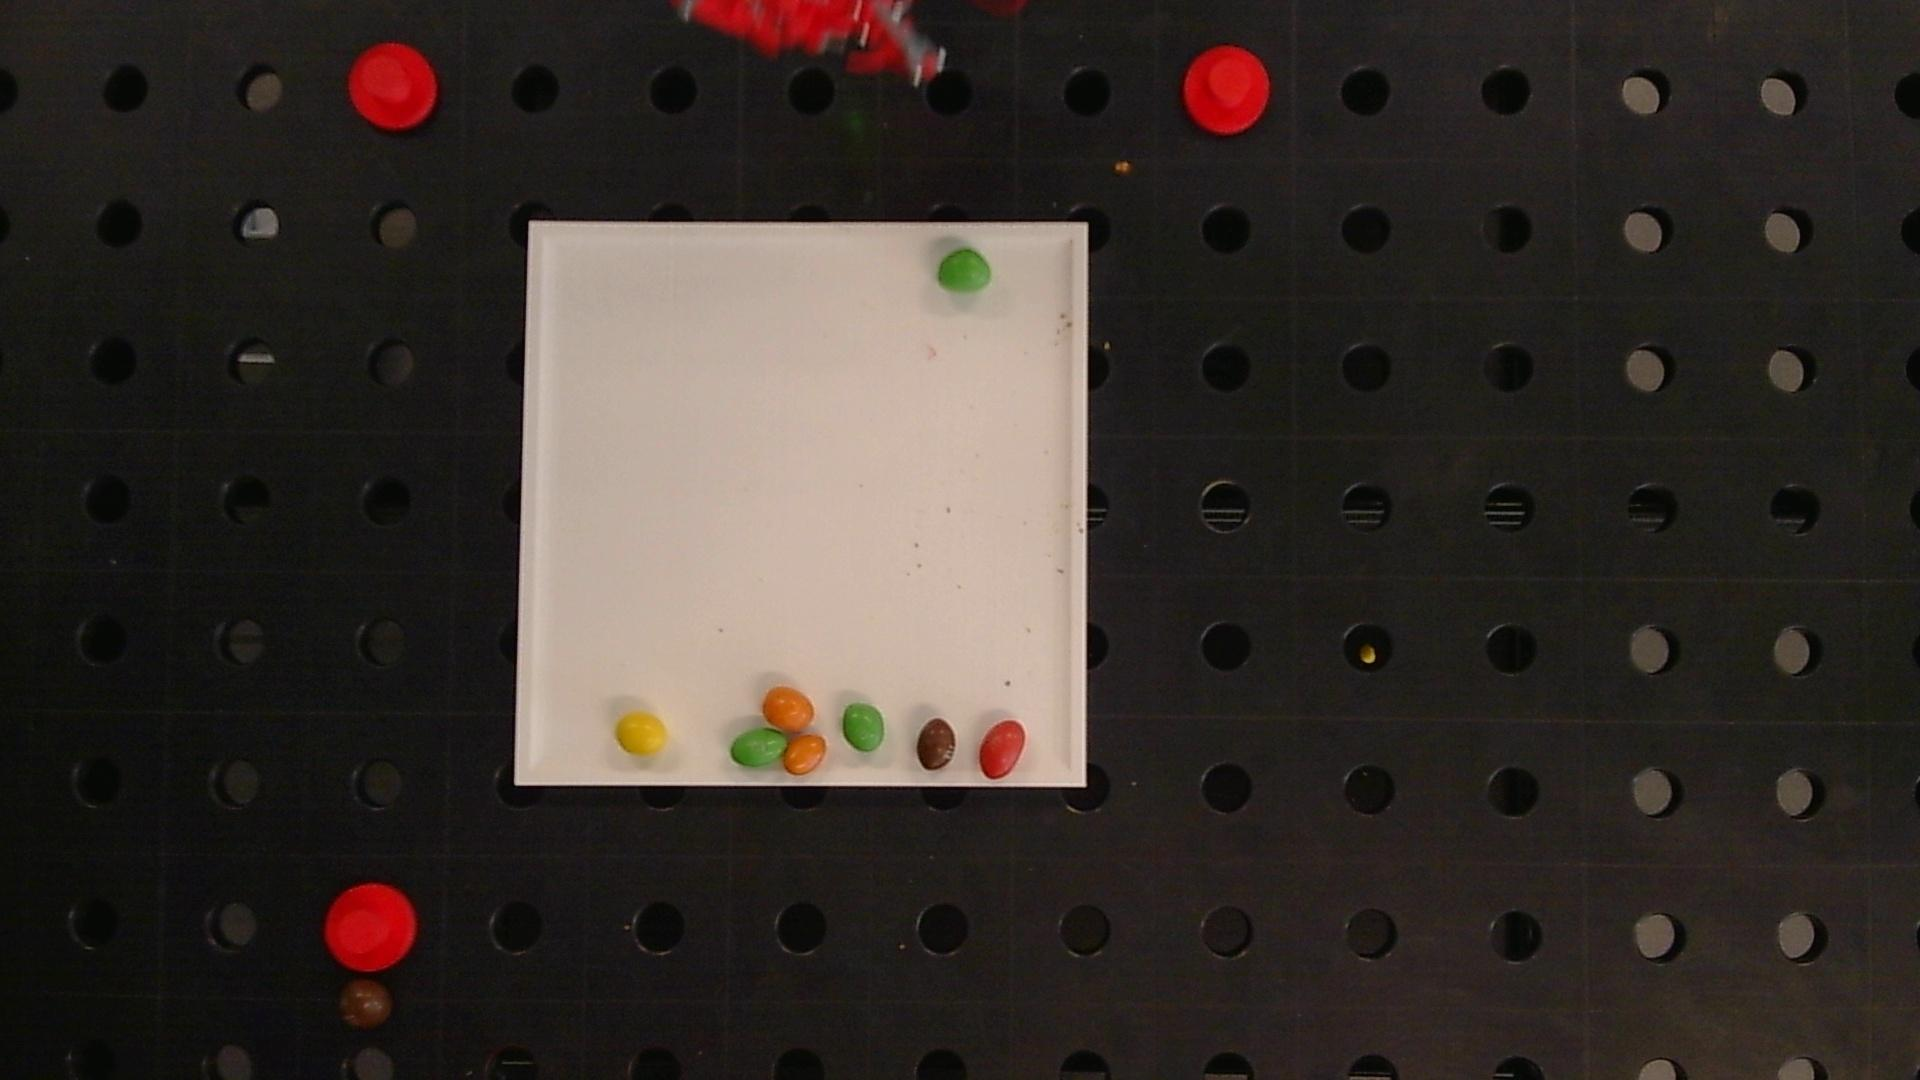brown: (916, 717, 957, 770)
green: (936, 249, 992, 293), (731, 728, 787, 767), (843, 703, 885, 750)
orange: (764, 686, 815, 732), (785, 735, 827, 774)
red: (978, 720, 1026, 779)
yellow: (615, 712, 667, 756)
